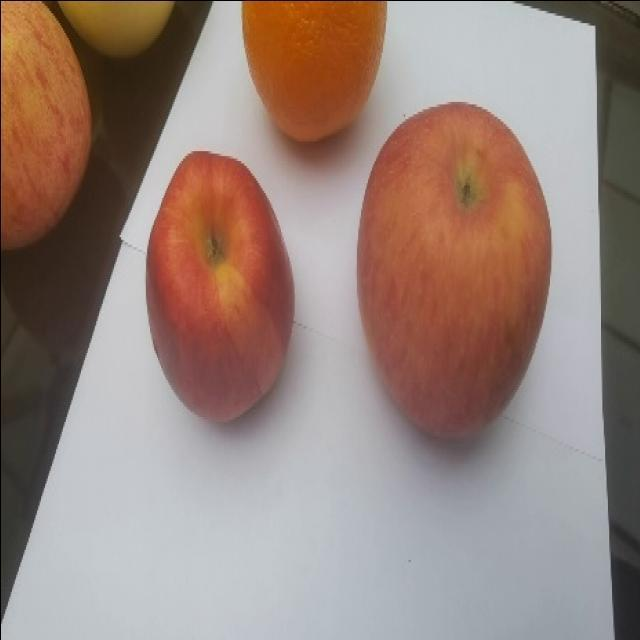Apple: (355, 101, 552, 442), (144, 149, 295, 423), (0, 0, 92, 252)
Orange: (240, 0, 387, 143)
